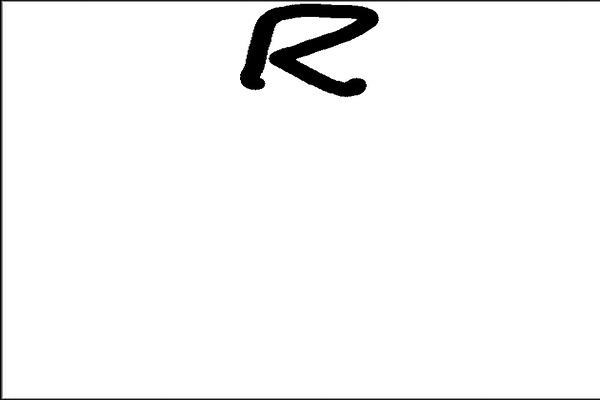R: (234, 2, 384, 104)
